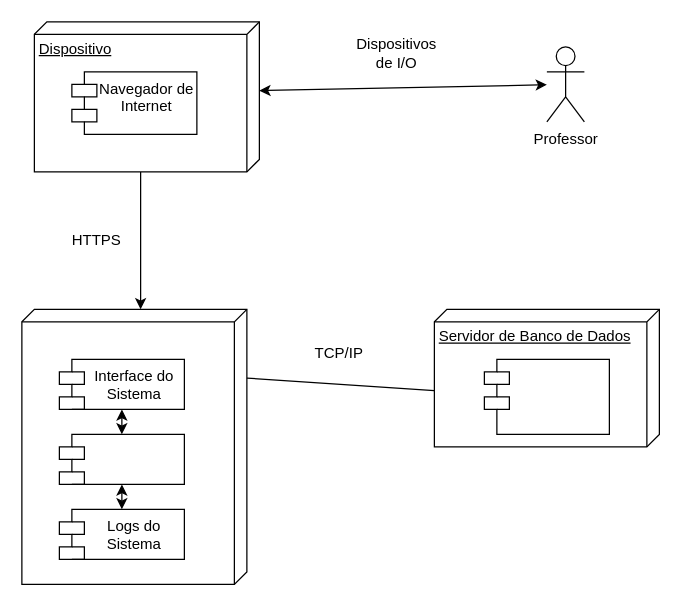
Some shapes in this 681 by 606 pixel diagram are drawn without their labels. Each missing label, with the box of its shape:
Banco de Dados MySQL: (483, 358, 609, 434)
Interface de Dados: (58, 433, 184, 484)
Servidor de Aplicação: (21, 308, 247, 584)
